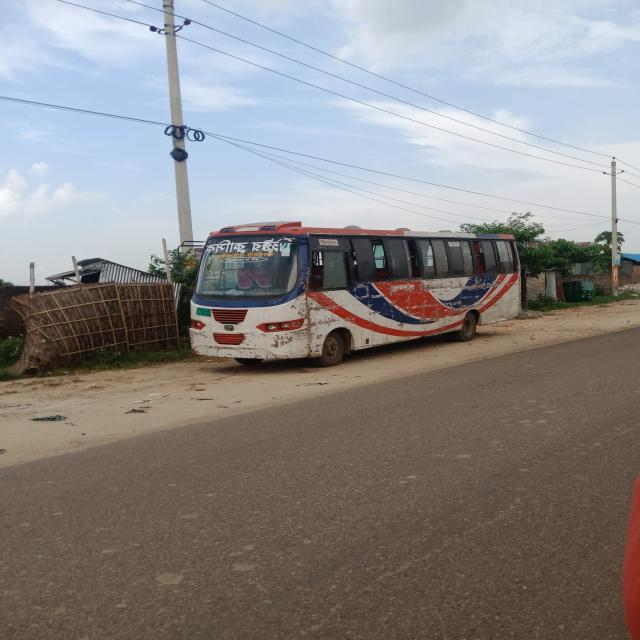Bus: (185, 198, 528, 386)
